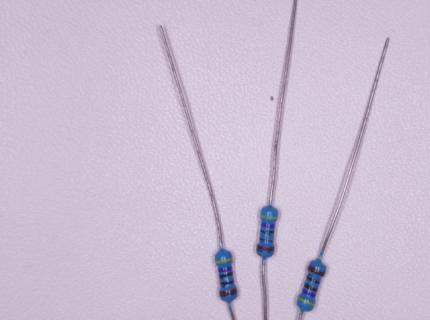Black band: (307, 276, 320, 284), (304, 283, 317, 291), (219, 272, 233, 279), (221, 280, 234, 286), (260, 229, 274, 234), (260, 237, 273, 242)
Brown band: (308, 264, 325, 276), (219, 288, 237, 297), (257, 245, 274, 252)
Violet band: (298, 295, 315, 306), (301, 288, 316, 298), (261, 222, 275, 229), (218, 266, 233, 272)
Yellow band: (215, 257, 233, 264), (261, 215, 278, 220)
